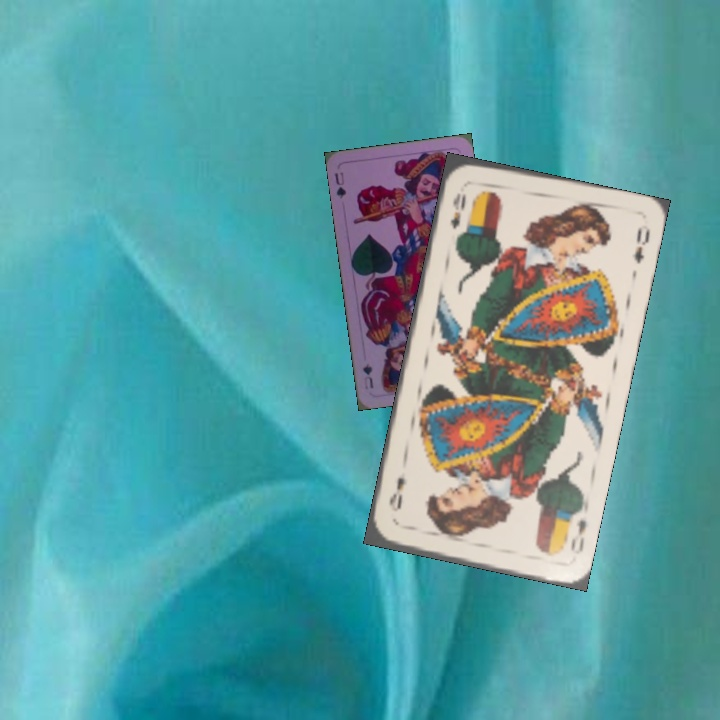EO: (446, 189, 469, 232), (566, 515, 589, 557)
GU: (330, 168, 349, 201)
